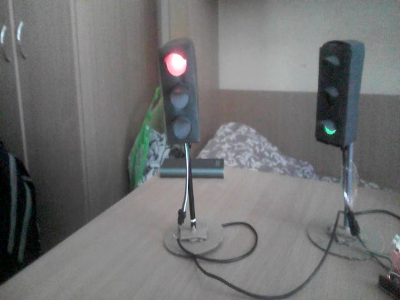trafficlight_green: (316, 46, 348, 142)
trafficlight_red: (160, 45, 198, 143)
